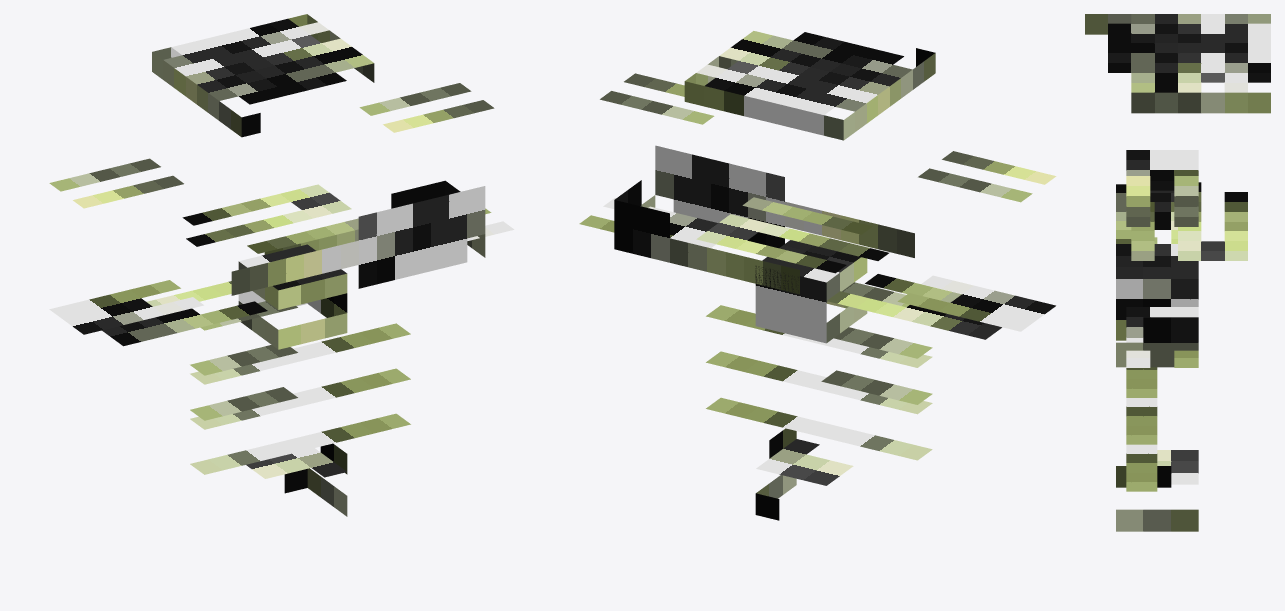
The model's file is wither_armor.gltf.
3 views of the same model, side by side, from view 1: azimuth 30°, elevation 25°; view 2: azimuth 150°, elevation 25°; view 3: azimuth 270°, elevation 25° (orthographic). The views are drawn at different scales.
Parts seen in each view (by area): view 1: body2 (×4), head1, body1, head3, head2, body3; view 2: head1, body2 (×4), body1, head3, head2, body3; view 3: head1, body2 (×4), head2, body1, body3, head3.
Part boxes in pixels (box(x1,y1,x2,y2)): body2 (×4): box(190, 244, 410, 478); head1: box(152, 14, 374, 253); body1: box(102, 180, 485, 346); head3: box(49, 158, 203, 334); head2: box(359, 83, 514, 240); body3: box(284, 443, 347, 516); head1: box(684, 31, 935, 273); body2 (×4): box(706, 240, 932, 485); body1: box(614, 145, 1001, 339); head3: box(897, 151, 1056, 331); head2: box(579, 73, 717, 248); body3: box(755, 428, 796, 520); head1: box(1085, 14, 1270, 260); body2 (×4): box(1116, 237, 1198, 491); head2: box(1126, 176, 1198, 367); body1: box(1116, 184, 1198, 367); body3: box(1116, 466, 1198, 531); head3: box(1126, 150, 1198, 190).
Size of the model in its own units: 1.56 by 1.74 by 0.5625.
1 material, 1 textured.
